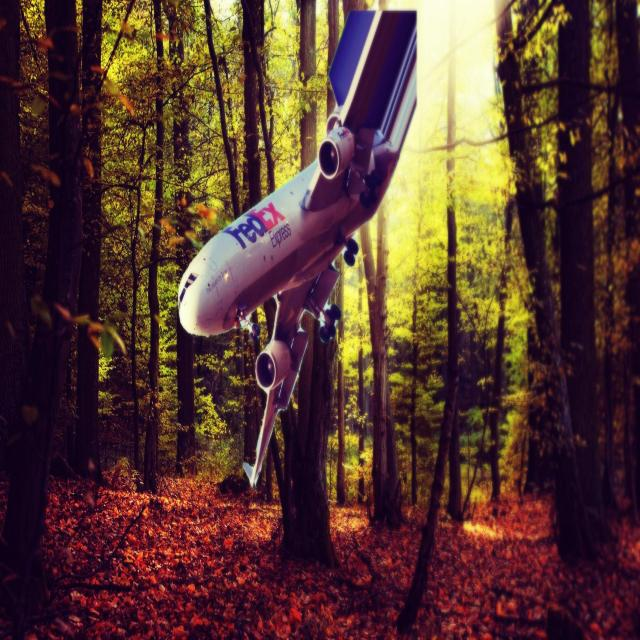airplane: (176, 8, 418, 490)
